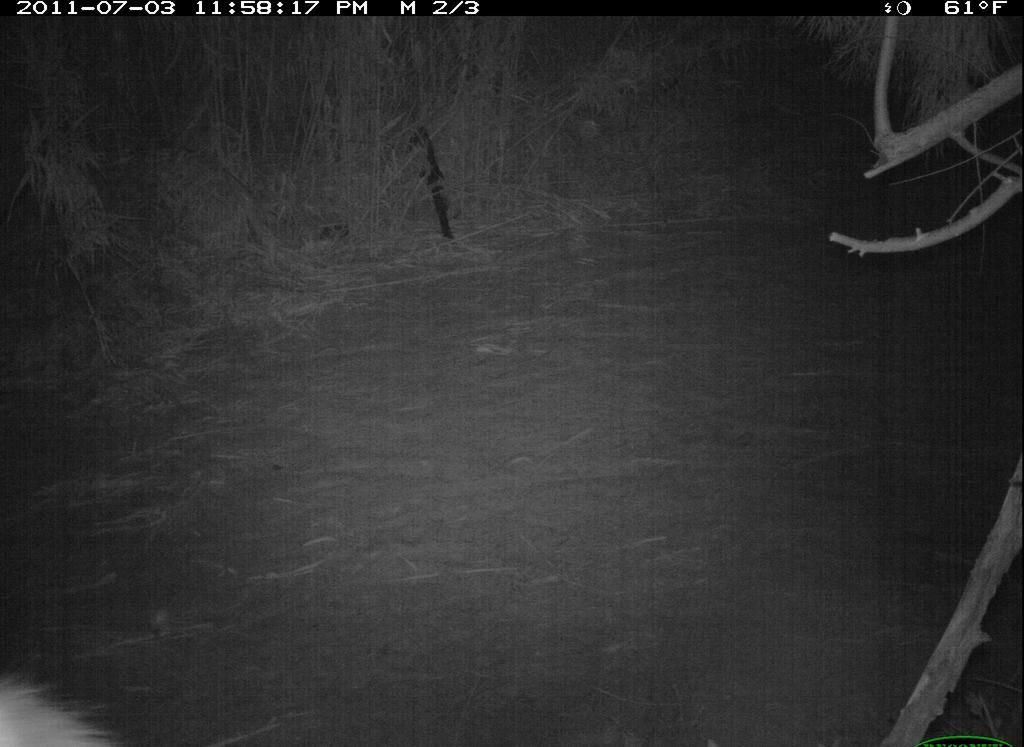raccoon: (3, 665, 129, 747)
